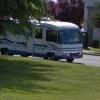Bus: (5, 15, 88, 63)
